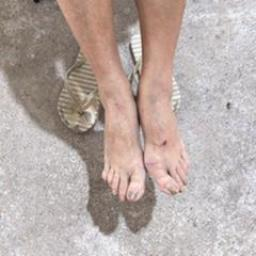Dorsal View -Both Feet-: (88, 68, 198, 216)
